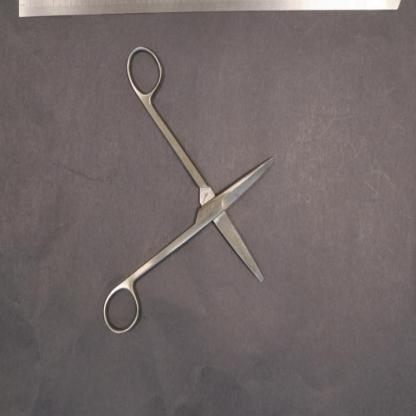Curved Mayo Scissors: (102, 41, 276, 338)
